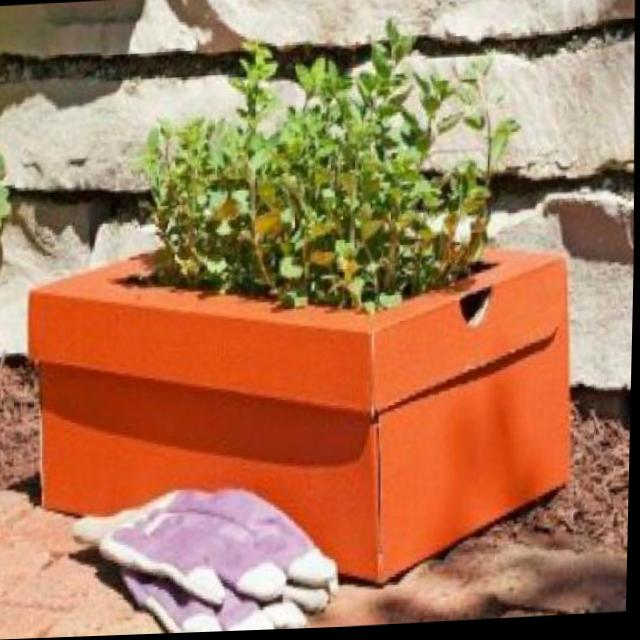box: (14, 219, 609, 606)
